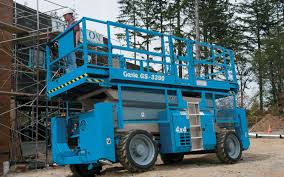Scissor Lift: (44, 16, 252, 177)
